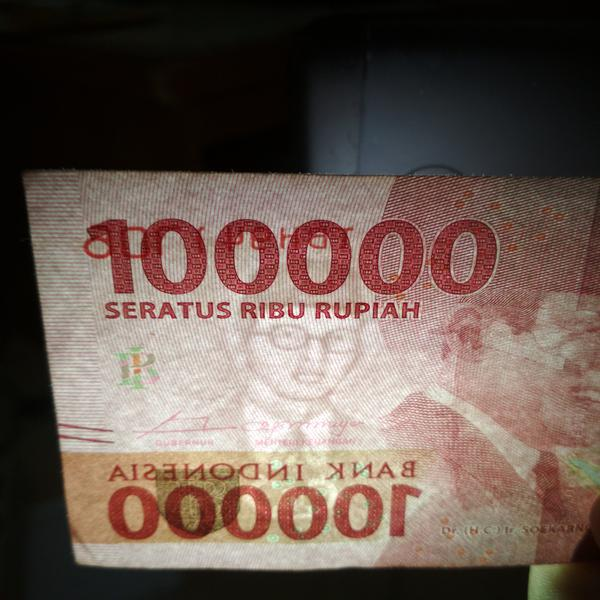uang asli: (164, 245, 446, 475)
